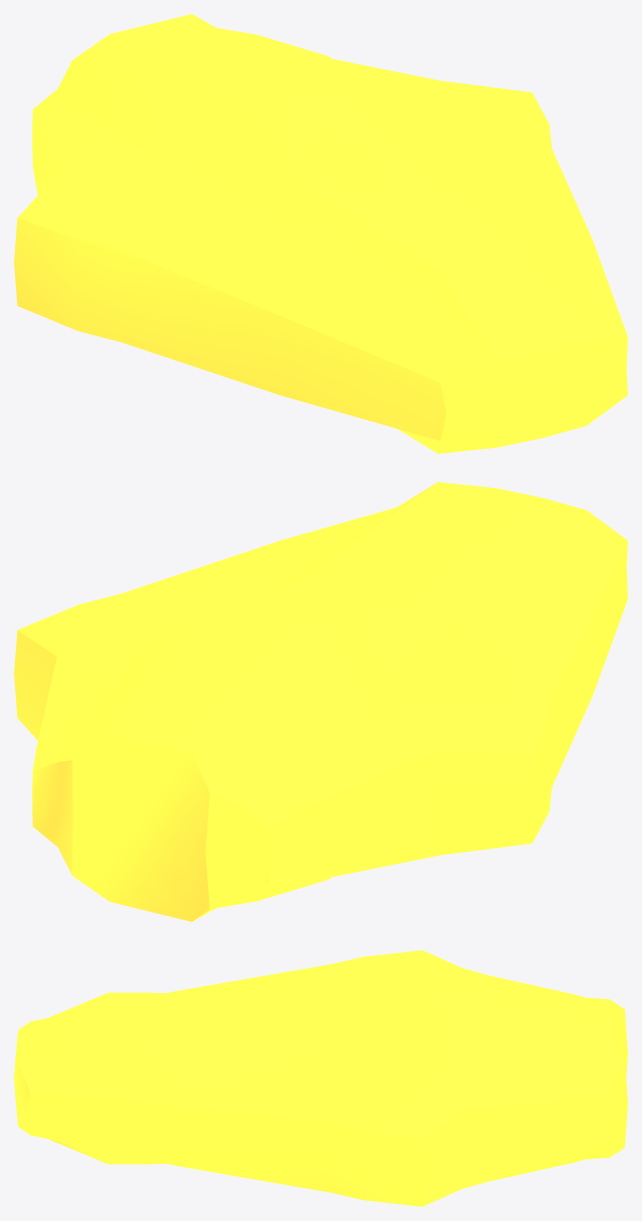
File: 01_ship_medium_alkanador_aegis.glb
3 renders of one model, top to bottom at view 1: azimuth 30°, elevation 25°; view 2: azimuth 150°, elevation 25°; view 3: azimuth 270°, elevation 25°, orthographic. The views are drawn at different scales.
Visible parts, largest first — view 1: 01_ship_medium_alkanador_aegis; view 2: 01_ship_medium_alkanador_aegis; view 3: 01_ship_medium_alkanador_aegis.
Part boxes in pixels (x1,y1,x2,y2): 01_ship_medium_alkanador_aegis: (14, 14, 627, 453); 01_ship_medium_alkanador_aegis: (14, 482, 627, 921); 01_ship_medium_alkanador_aegis: (14, 950, 627, 1206).
Size of the model in its own units: 0.7941 by 0.3502 by 1.07.
